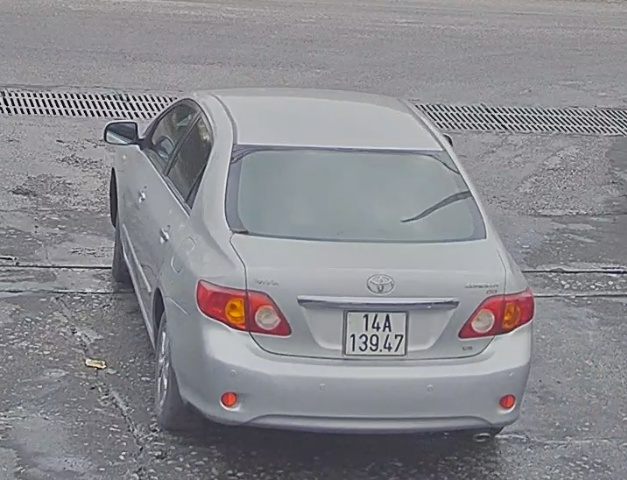vehicle plate: (339, 304, 412, 360)
